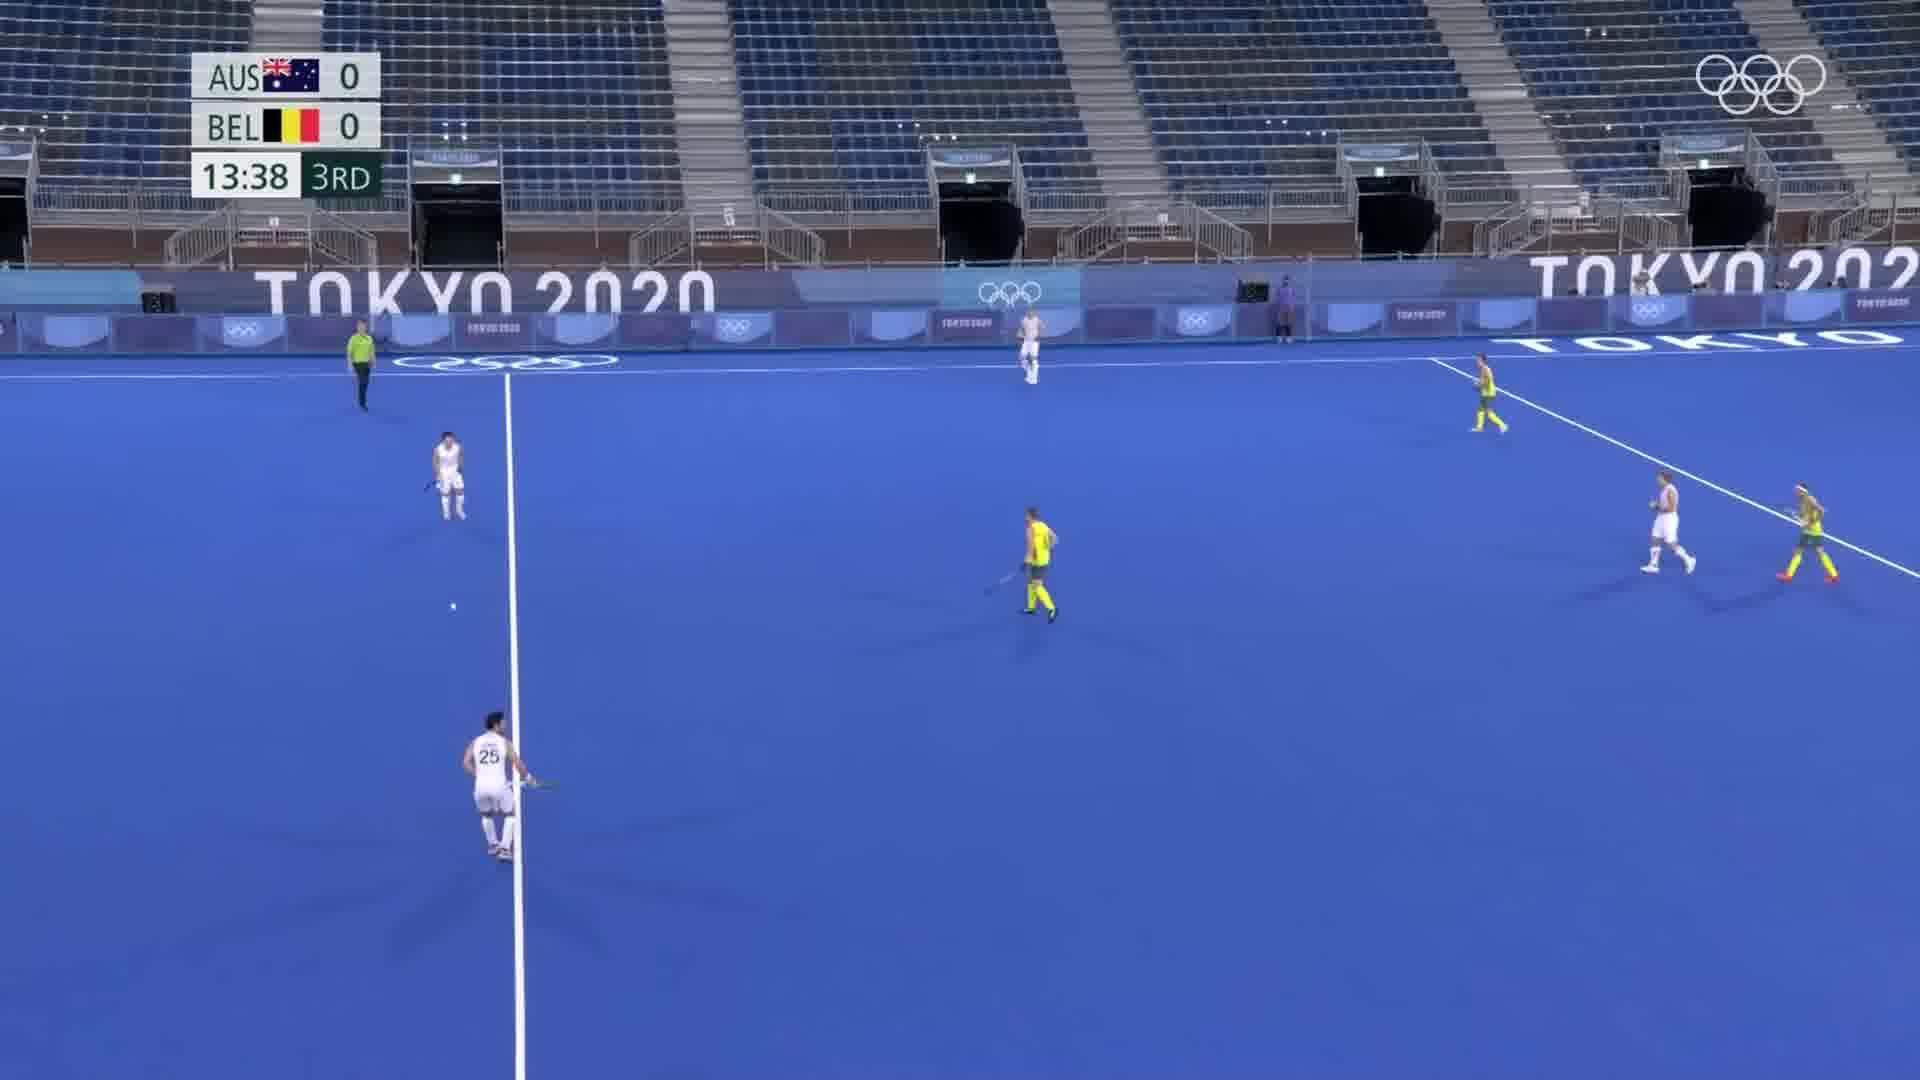ball: (446, 601, 460, 613)
